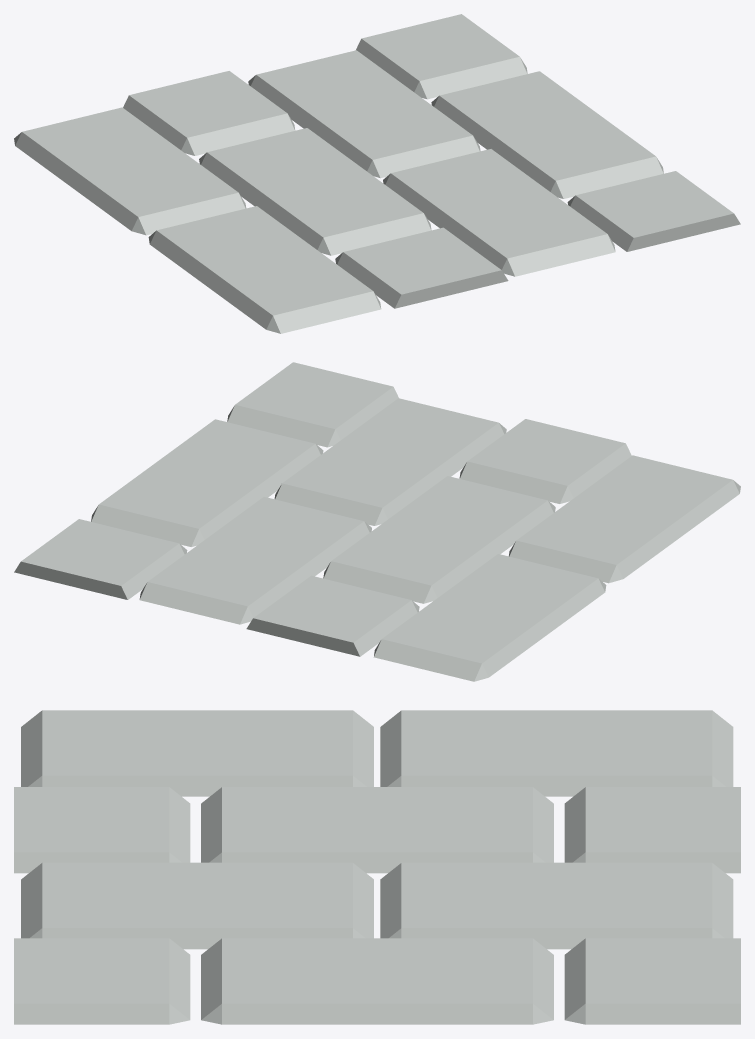
The model's file is FloorBlock_04.glb.
3 views of the same model, one above another, from view 1: azimuth 30°, elevation 25°; view 2: azimuth 150°, elevation 25°; view 3: azimuth 270°, elevation 25° (orthographic). The views are drawn at different scales.
Visible parts, largest first — view 1: Floor_Block_04; view 2: Floor_Block_04; view 3: Floor_Block_04.
Part boxes in pixels (<box>): Floor_Block_04: <box>14,14,740,333</box>; Floor_Block_04: <box>14,362,740,681</box>; Floor_Block_04: <box>14,710,740,1024</box>.
Bounding box in the file's own units: 1.97 × 0.0506 × 2.
Materials: 1 (1 with a texture image).
